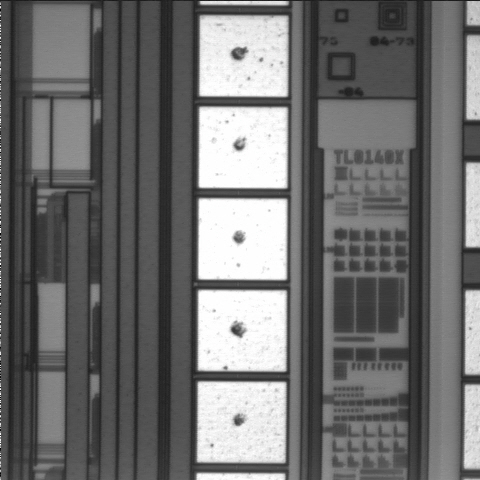pad: (198, 198, 287, 280), (199, 16, 288, 97), (199, 107, 288, 188), (198, 290, 287, 371), (197, 382, 286, 463)
